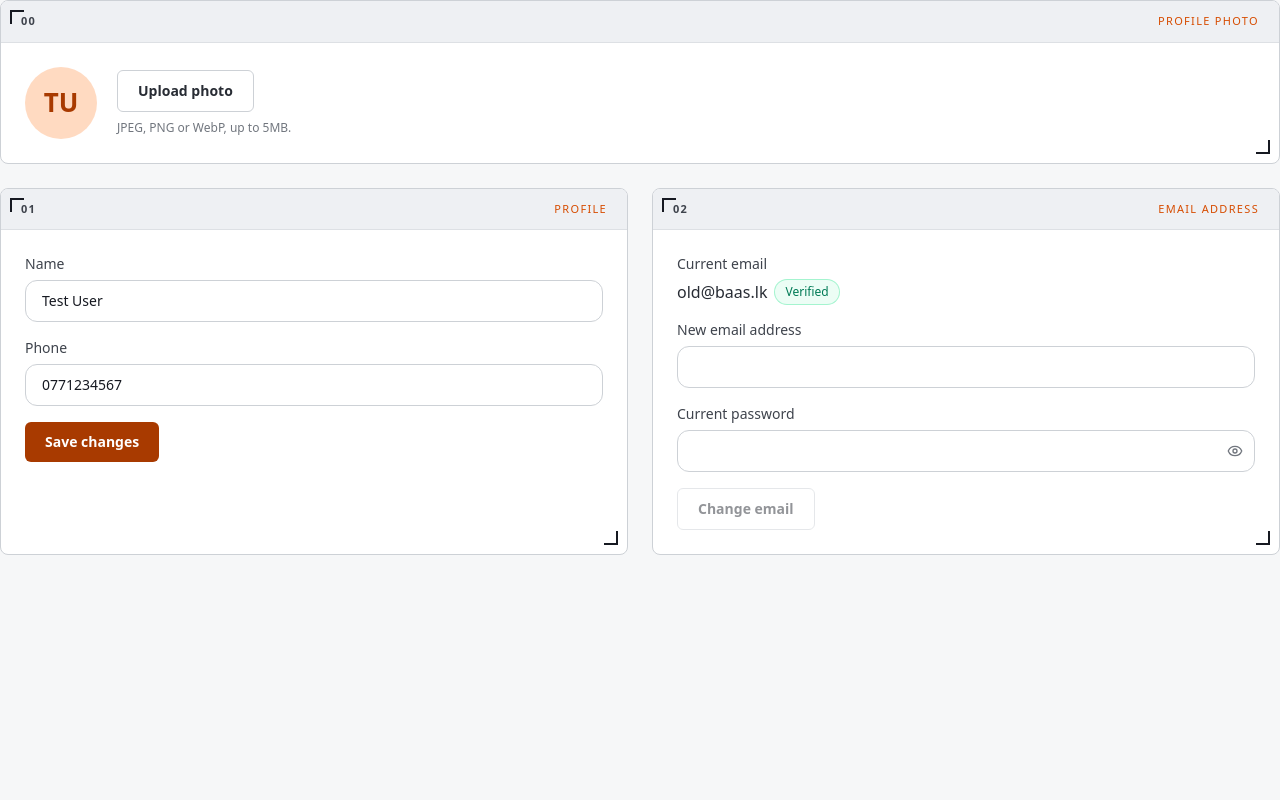
Scenario: AccountDetails — profile › puts the edited name/phone and toasts success
Replace the text in the field labelled "Name" with "New Name" at coordinates (314, 301), box [25,280,603,322]
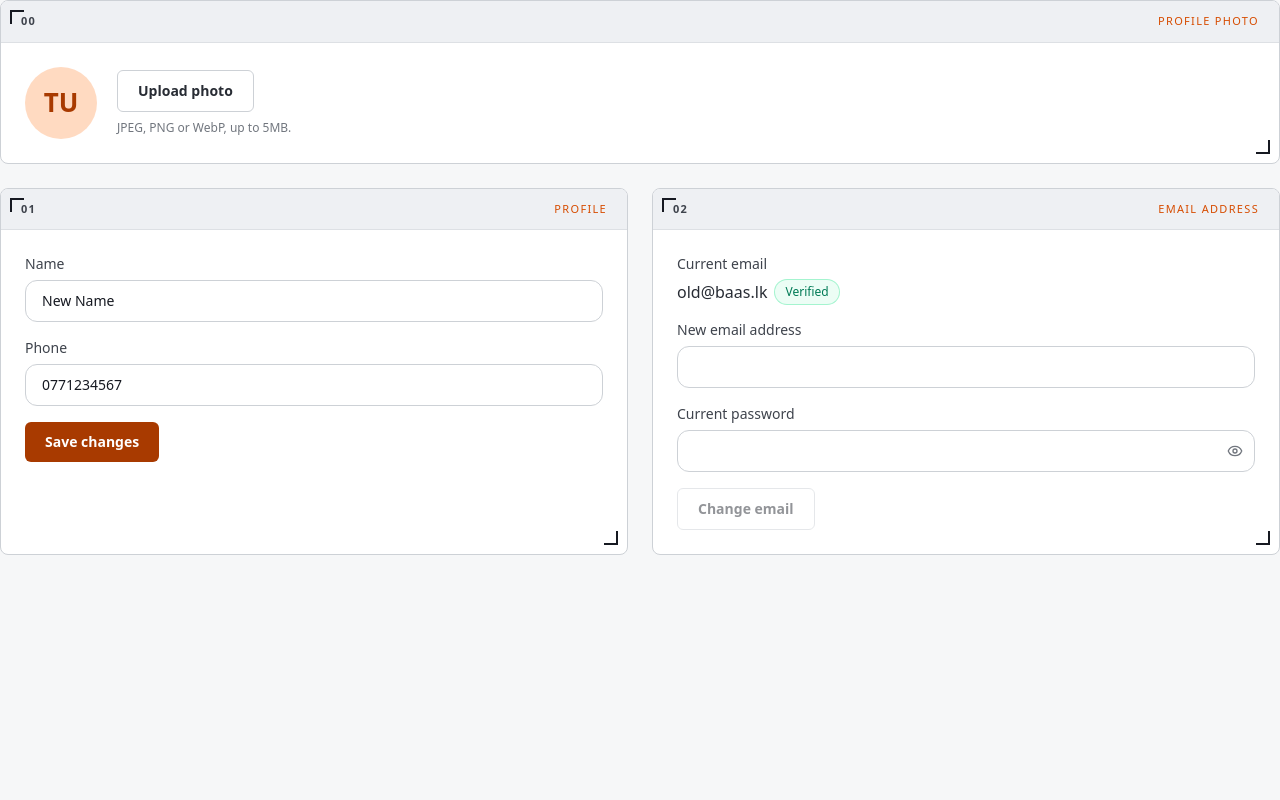
Replace the text in the field labelled "Phone" with "0719876543" at coordinates (314, 385), box [25,364,603,406]
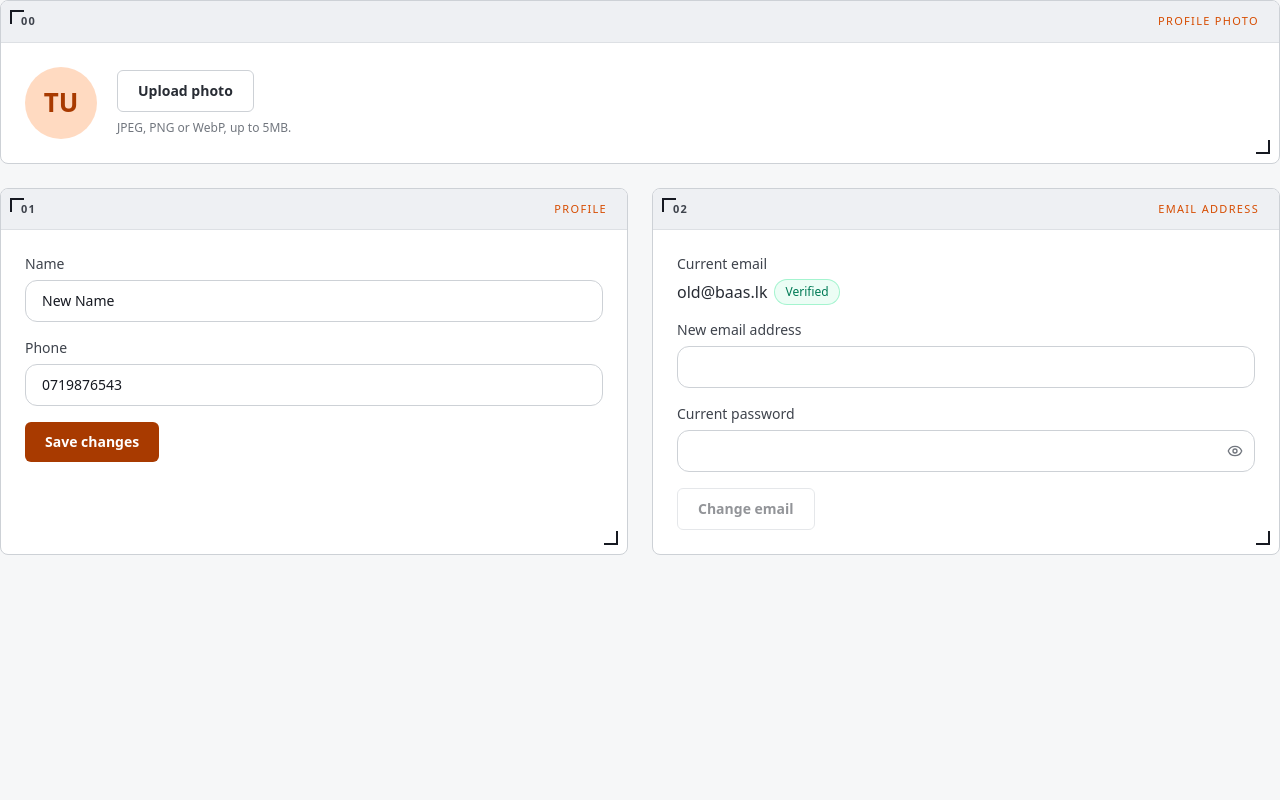
Submit the form "Save changes", box [0,188,628,555]
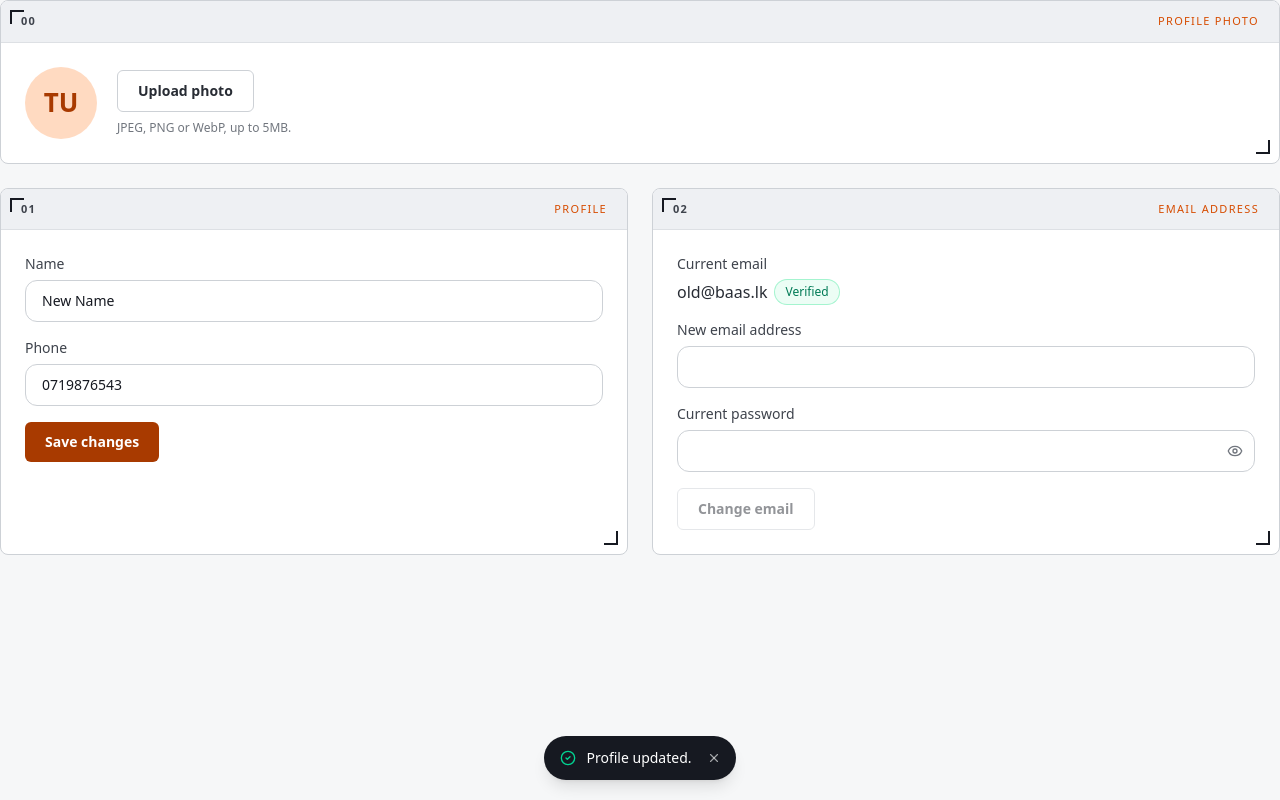
Expected: the message reads "Profile updated.", [586,748,692,767]
